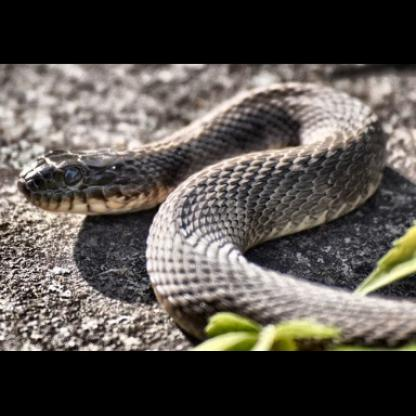Snake: (0, 81, 415, 350)
